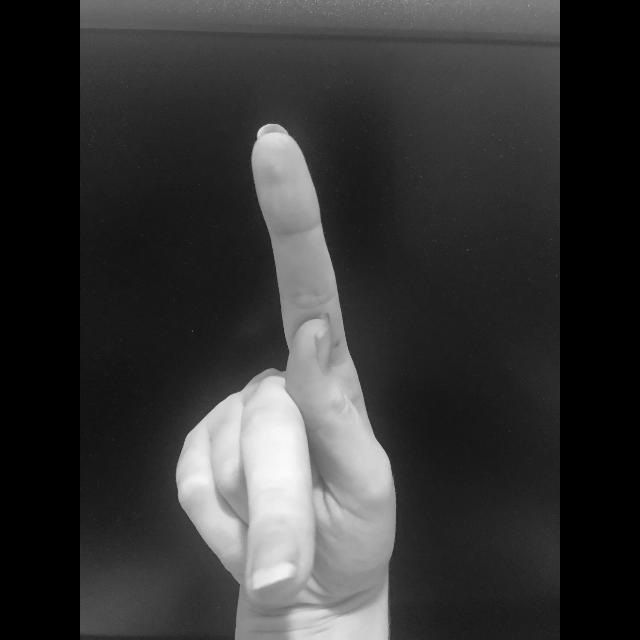P: (170, 116, 402, 640)
